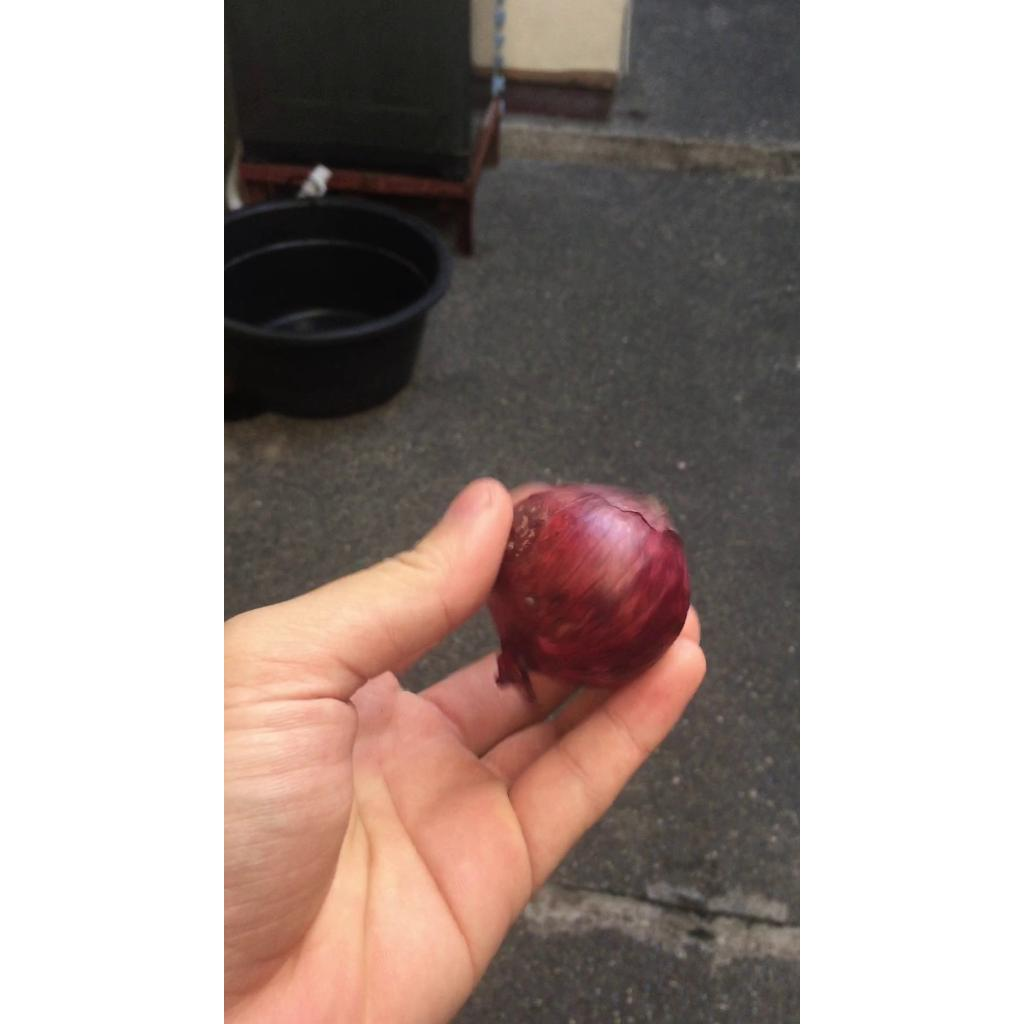Onion: (487, 484, 690, 702)
